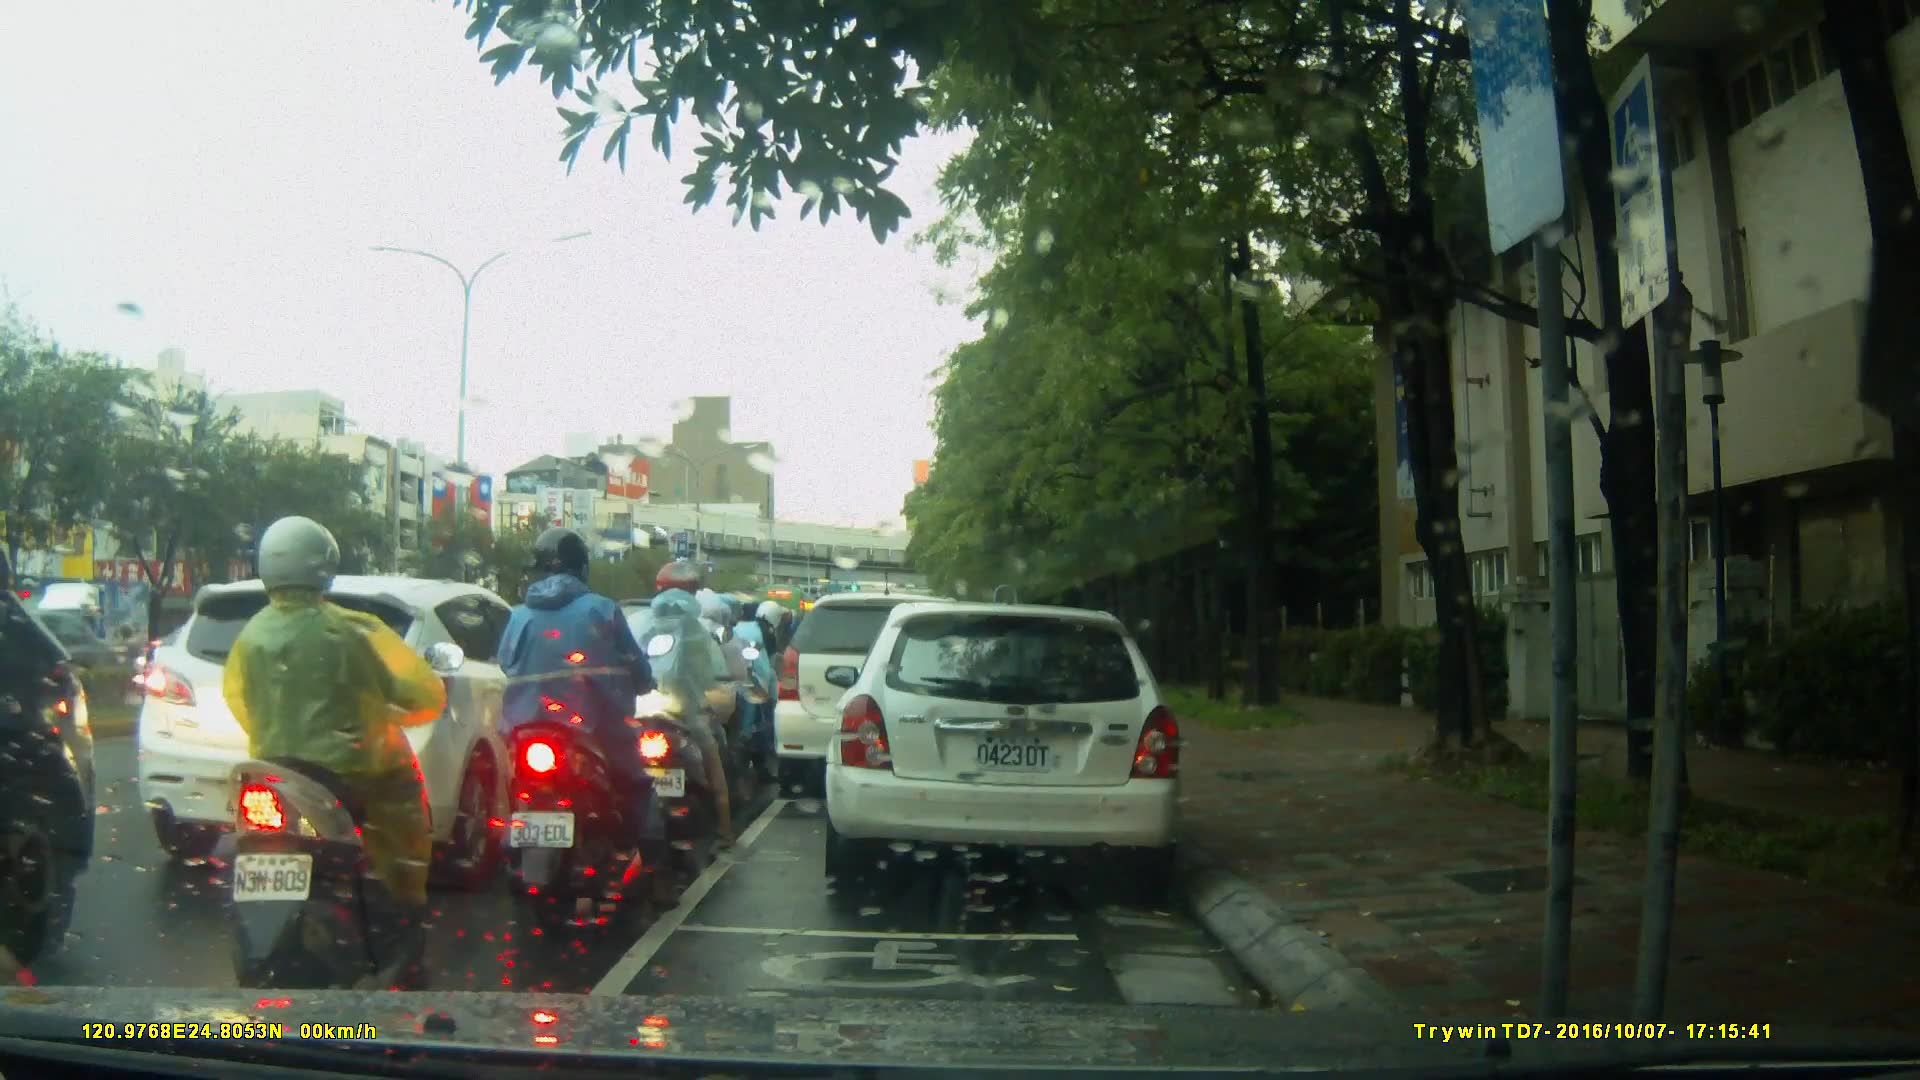rider: (218, 515, 469, 1004), (495, 526, 682, 919), (604, 560, 737, 850), (646, 582, 763, 823), (722, 594, 789, 765)
vehicle: (135, 572, 592, 875), (822, 604, 1188, 883), (774, 595, 995, 802), (20, 576, 199, 697), (1, 610, 145, 716)
